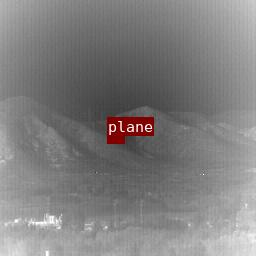plane: (107, 136, 124, 143)
